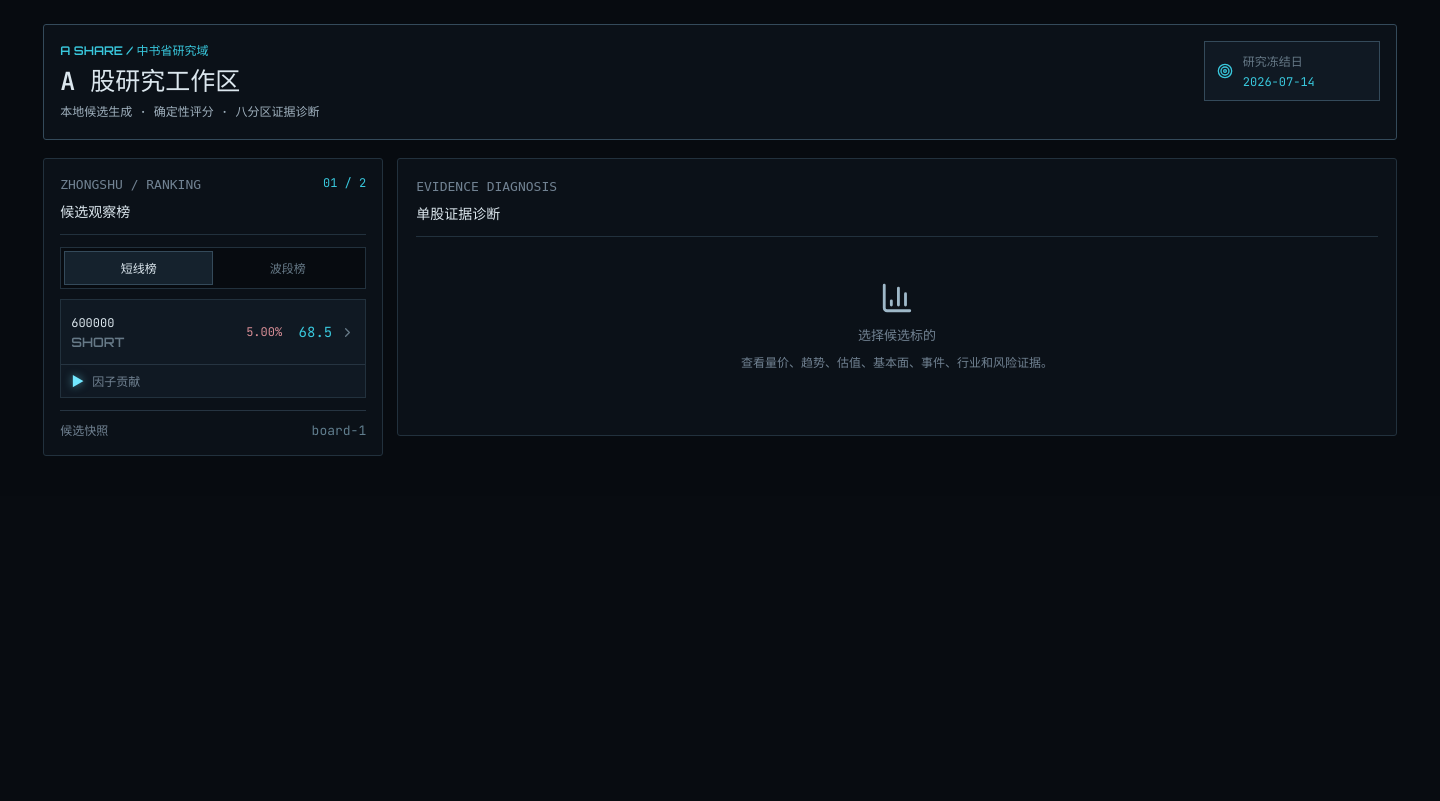
AShareResearchView › keeps trend evidence visible when fundamentals are unavailable
Click the button "600000 SHORT 5.00% 68.5" at (93, 323), box [61, 300, 365, 364]
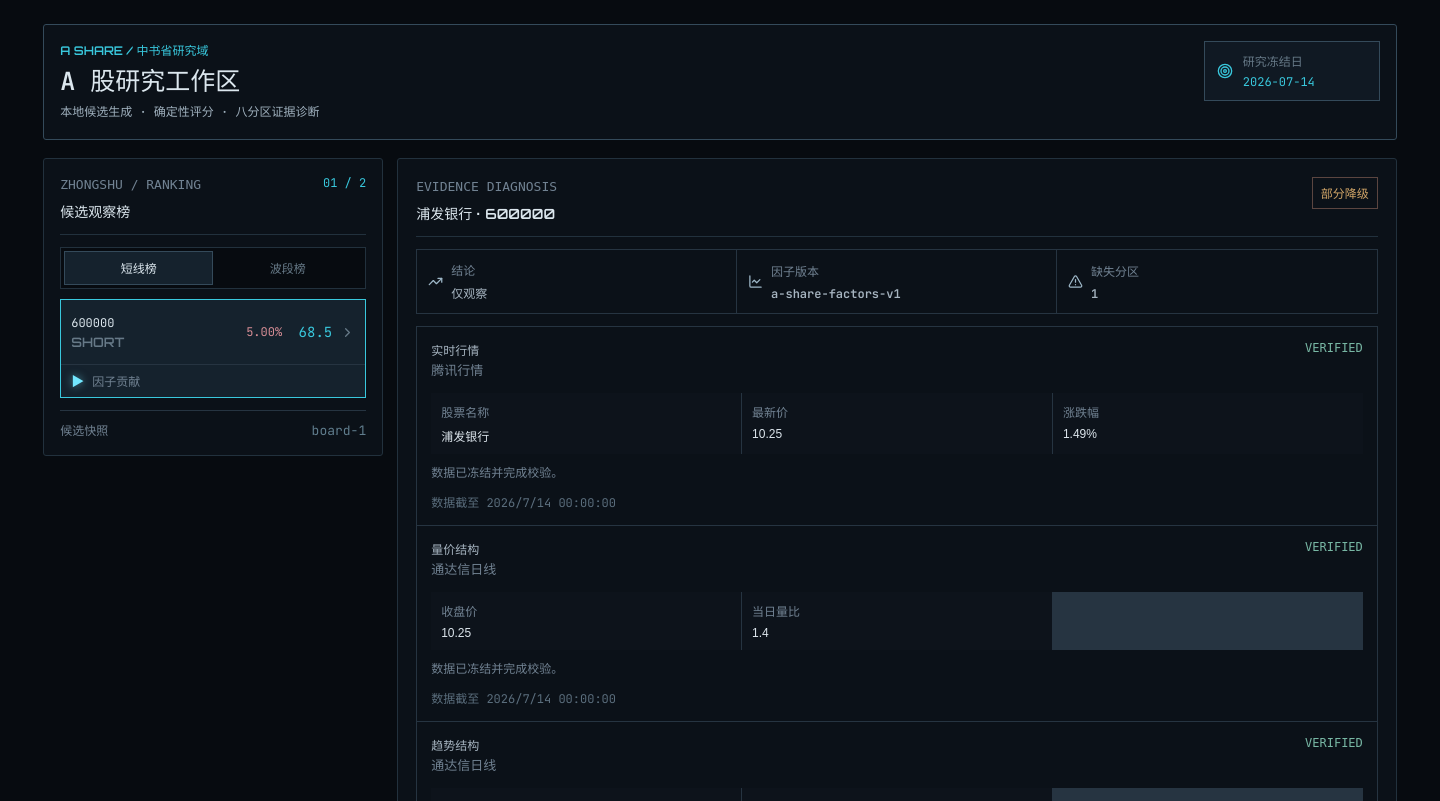
Expected: the text "数据截至 2026/7/14 00:00:00" below "股票名称" is shown, [431, 496, 486, 512]
